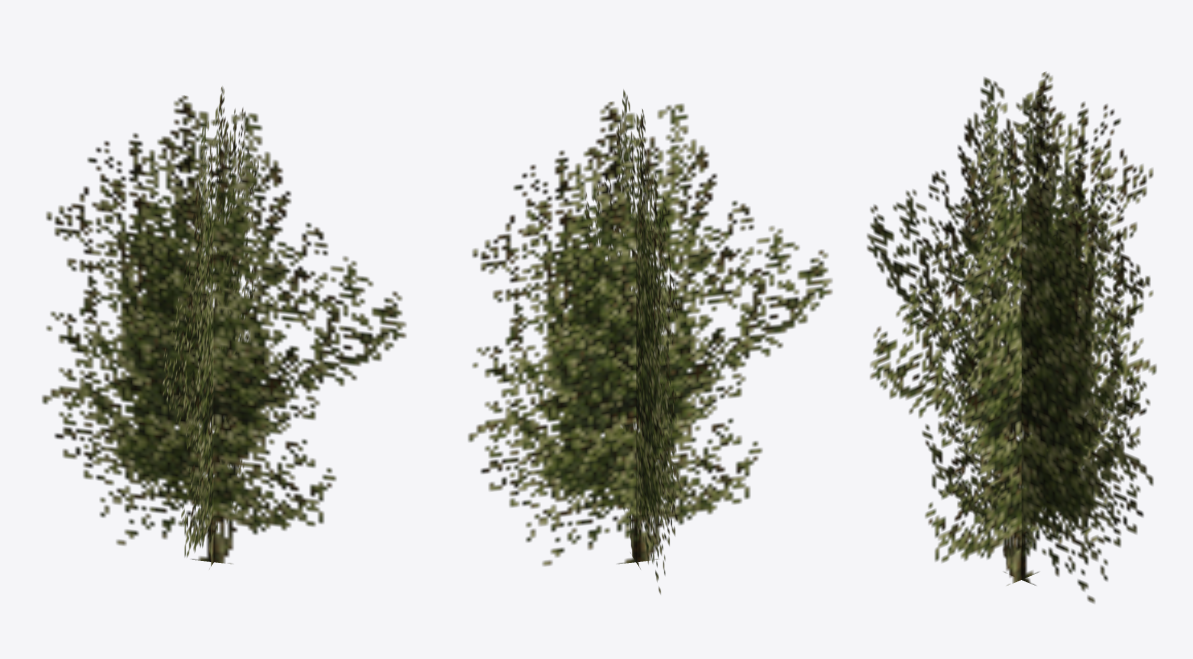
File: tree093.glb
3 views of the same model, side by side, from view 1: azimuth 30°, elevation 25°; view 2: azimuth 150°, elevation 25°; view 3: azimuth 270°, elevation 25° (orthographic). The views are drawn at different scales.
Parts seen in each view (by area): view 1: tree093; view 2: tree093; view 3: tree093.
Boxes of the visible parts, x1,y1,x2,y2 form: tree093: (42,86,406,568); tree093: (468,89,832,594); tree093: (867,72,1156,603).
Size of the model in its own units: 1.86 by 3.35 by 1.86.
Materials: 1 (1 with a texture image).
